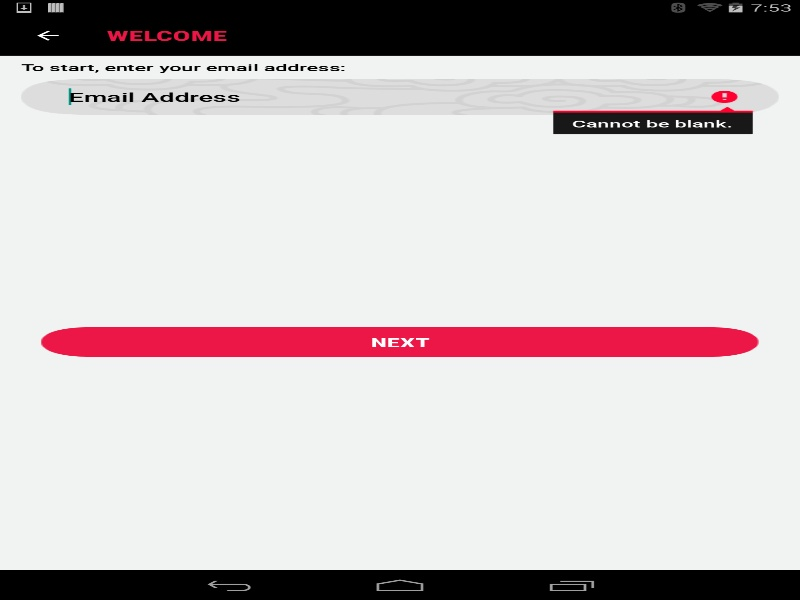Button: (41, 326, 758, 357), (10, 15, 85, 55)
Input: (21, 79, 778, 114)
